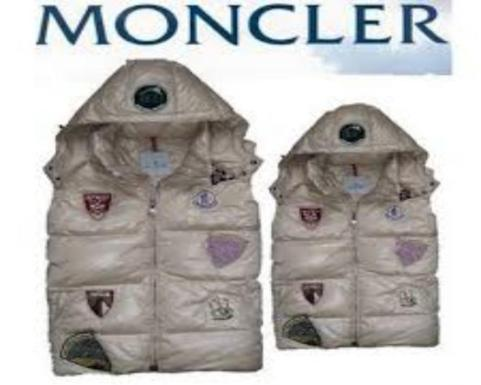MONCLER: (37, 1, 451, 47)
